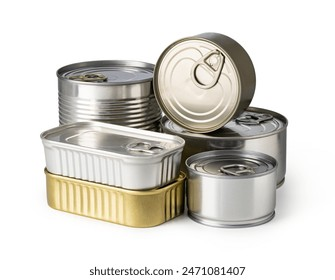can: (36, 33, 291, 228)
